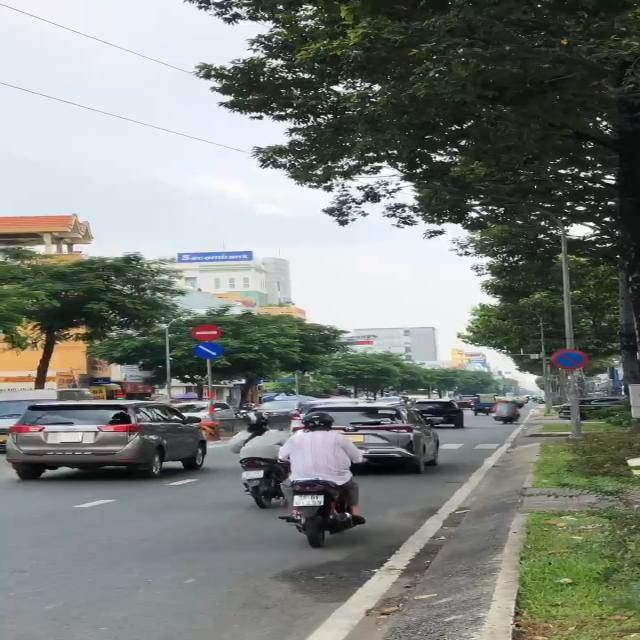Bien bao cam di nguoc chieu: (188, 323, 227, 342)
Bien bao huong phai di vong chuong ngai vat: (194, 341, 230, 360)
